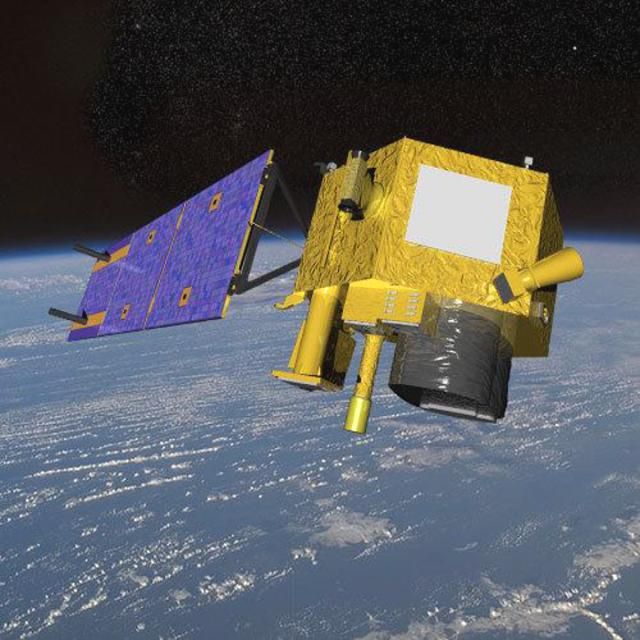medium_debris: (52, 124, 579, 458)
